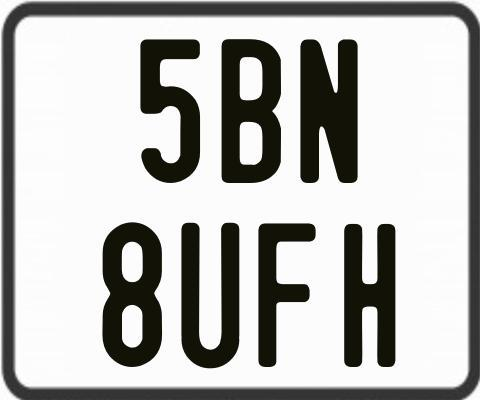5: (138, 37, 199, 186)
8: (100, 219, 165, 365)
B: (219, 36, 283, 180)
F: (257, 221, 315, 369)
H: (344, 223, 397, 372)
N: (298, 38, 358, 186)
U: (181, 222, 239, 371)
